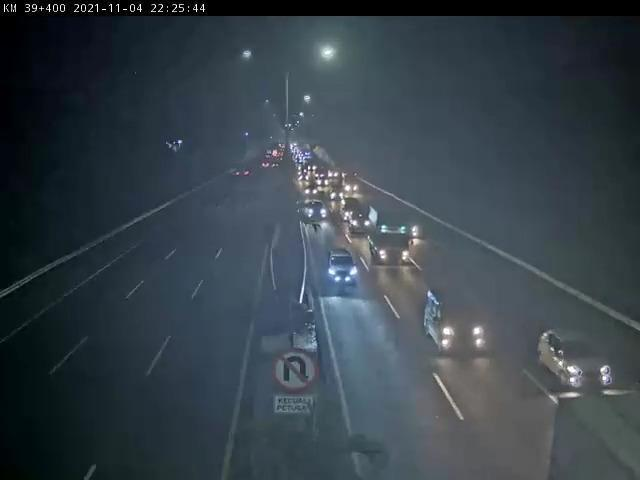car: (535, 326, 617, 393), (425, 286, 491, 354), (326, 247, 361, 287), (305, 199, 329, 223), (402, 220, 425, 243), (351, 210, 372, 233)
truck: (368, 202, 412, 264), (340, 199, 362, 224)
